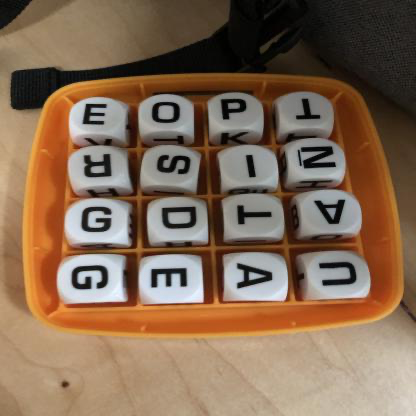a: (226, 253, 287, 299), (304, 192, 358, 234)
d: (149, 199, 206, 242)
e: (143, 258, 202, 302), (73, 99, 124, 136)
g: (60, 257, 122, 303), (70, 200, 127, 244)
i: (220, 148, 276, 187)
n: (288, 141, 344, 180)
o: (141, 97, 193, 131)
p: (212, 97, 259, 130)
r: (72, 147, 128, 186)
s: (144, 148, 200, 186)
t: (225, 195, 282, 237), (280, 95, 332, 129)
u: (309, 251, 368, 296)
